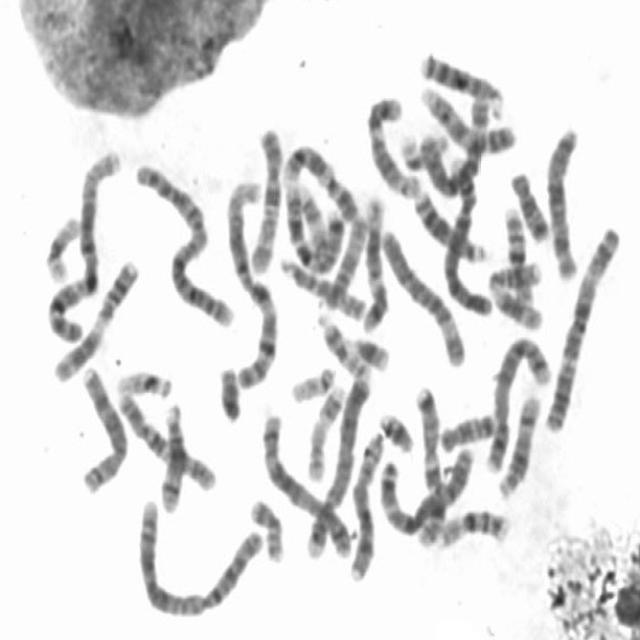A1: (42, 142, 123, 345), (222, 174, 280, 390)
A2: (130, 157, 236, 329), (135, 493, 268, 621)
A3: (541, 218, 623, 436), (373, 438, 476, 536)
B4: (299, 367, 373, 562), (439, 149, 495, 318)
B5: (257, 405, 356, 558), (481, 328, 555, 476)
C10: (111, 383, 218, 492), (248, 120, 285, 276)
C11: (48, 251, 143, 385), (484, 254, 546, 333)
C12: (361, 89, 421, 199), (359, 192, 391, 333)
C6: (376, 224, 466, 367), (415, 93, 494, 199)
C7: (410, 378, 449, 550), (280, 180, 345, 274)
C8: (76, 359, 130, 497), (345, 426, 387, 582)
C9: (415, 79, 519, 156), (278, 137, 361, 225)
D13: (415, 44, 508, 117), (410, 183, 489, 265)
D14: (494, 388, 544, 500), (155, 396, 188, 517)
D15: (275, 252, 369, 320), (312, 207, 369, 318)
E16: (435, 501, 512, 551), (500, 201, 535, 304)
E17: (302, 378, 345, 483), (293, 177, 328, 251)
E18: (506, 164, 552, 243), (437, 406, 499, 454)
F19: (41, 207, 82, 284), (394, 128, 429, 174)
F20: (320, 324, 372, 384), (244, 491, 286, 564)
G21: (374, 404, 416, 454), (348, 330, 392, 373)
G22: (285, 359, 338, 404), (112, 362, 175, 399)
X: (542, 120, 582, 284)
Y: (214, 359, 245, 423)
